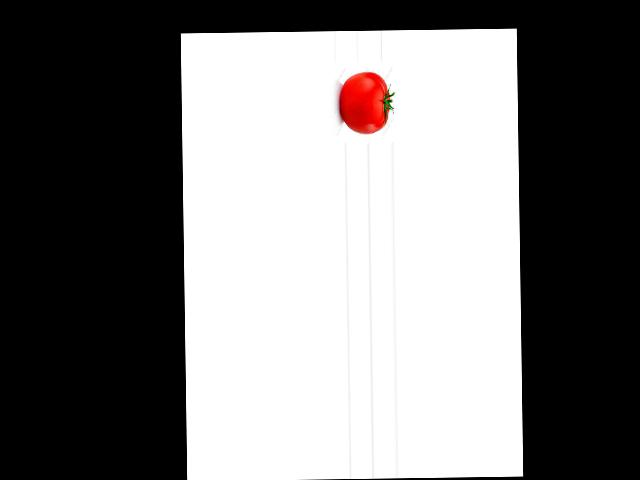tomato: (340, 71, 390, 134)
